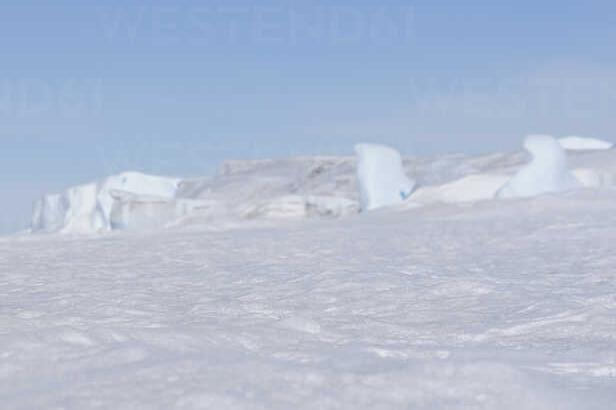Emperor Penguin: (0, 0, 36, 335)
